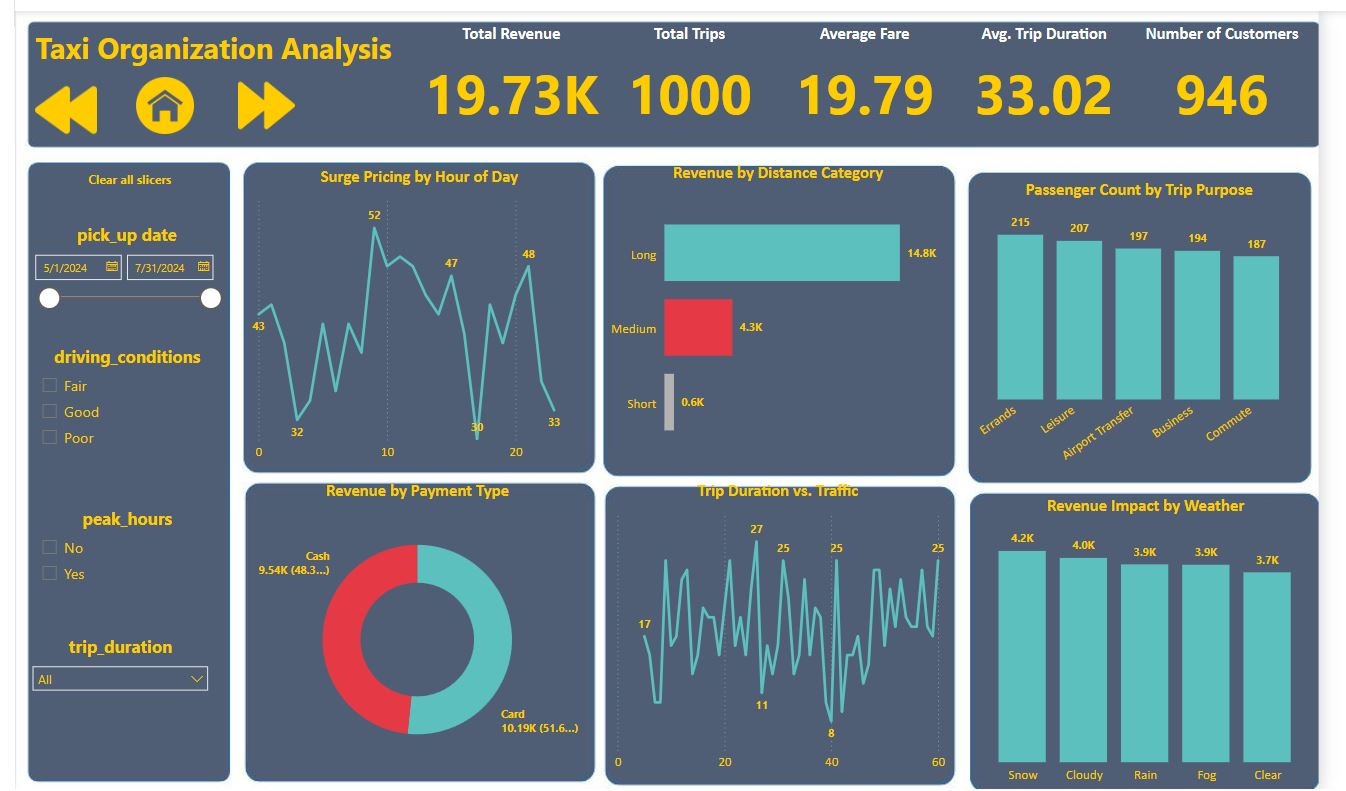

The dashboard page shown, as its layout file describes it:
{"tool":"powerbi","page":{"name":"Page 2","canvas":[1500,900],"ordinal":2},"visuals":[{"type":"card","title":"Total Revenue","fields":{"Values":["Measures Table.Total Revenue"]},"box":[449.4,29.3,205.1,128.9],"z":0},{"type":"card","title":"Total Trips","fields":{"Values":["Measures Table.Total Trips"]},"box":[664.3,29.3,171.9,128.9],"z":1000},{"type":"card","title":"Average Fare","fields":{"Values":["Measures Table.Tip Percentage Overall"]},"box":[847.9,29.3,193.4,128.9],"z":2000},{"type":"card","title":"Number of Customers","fields":{"Values":["Measures Table.Unique Customers"]},"box":[1244.5,29.3,193.4,128.9],"z":3000},{"type":"card","title":"Avg. Trip Duration","fields":{"Values":["Measures Table.Average Trip Duration"]},"box":[1060.9,29.3,166.1,128.9],"z":4000},{"type":"textbox","box":[17.6,29.3,429.8,54.7],"z":5000},{"type":"barChart","title":"Revenue by Distance Category","fields":{"Category":["taxi_organization_dataset.distance_category"],"Y":["Measures Table.Total Revenue"]},"box":[654.5,183.7,386.8,339.9],"z":6000},{"type":"slicer","title":"pick_up date","fields":{"Values":["taxi_organization_dataset.pickup_datetime"]},"box":[9.7,251.6,229,116.1],"z":7000},{"type":"actionButton","box":[17.6,183.7,220.8,37.1],"z":8000},{"type":"slicer","title":"driving_conditions","fields":{"Values":["taxi_organization_dataset.driving-conditions"]},"box":[17.6,386.8,214.9,136.8],"z":9000},{"type":"slicer","title":"peak_hours","fields":{"Values":["taxi_organization_dataset.peak_hours"]},"box":[17.6,566.6,214.9,95.7],"z":10000},{"type":"slicer","title":"trip_duration","fields":{"Values":["taxi_organization_dataset.trip_duration (min)"]},"box":[9.8,709.2,214.9,97.7],"z":11000},{"type":"columnChart","title":"Revenue Impact by Weather","fields":{"Y":["Measures Table.Total Revenue"],"Category":["taxi_organization_dataset.weather"]},"box":[1060.9,552.9,390.7,330.2],"z":12000},{"type":"columnChart","title":"Passenger Count by Trip Purpose","fields":{"Y":["CountNonNull(taxi_organization_dataset.passenger_count)"],"Category":["taxi_organization_dataset.trip_purpose"]},"box":[1060.9,203.2,377.1,334.1],"z":13000},{"type":"lineChart","title":"Trip Duration vs. Traffic ","fields":{"Category":["taxi_organization_dataset.trip_duration (min)"],"Y":["CountNonNull(taxi_organization_dataset.traffic)"]},"box":[654.5,537.3,386.8,332.1],"z":14000},{"type":"donutChart","title":"Revenue by Payment Type","fields":{"Category":["taxi_organization_dataset.payment_type"],"Y":["Measures Table.Total Revenue"]},"box":[255.9,537.3,382.9,332.1],"z":15000},{"type":"lineChart","title":"Surge Pricing by Hour of Day","fields":{"Category":["taxi_organization_dataset.hour_of_day"],"Y":["CountNonNull(taxi_organization_dataset.surge_pricing)"]},"box":[255.9,187.6,386.8,336],"z":16000},{"type":"image","box":[117.2,84,99.6,74.2],"z":17000},{"type":"image","box":[17.6,84,78.1,84],"z":18000},{"type":"image","box":[234.4,84,91.8,74.2],"z":19000}]}

Visuals, with their boxes in screenshot pixels (x1, y1, x2, y2), scaled from the page's 1500x900 canvas onto the 1346x791 screenshot:
"Total Revenue" card: {"left": 403, "top": 26, "right": 587, "bottom": 139}
"Total Trips" card: {"left": 596, "top": 26, "right": 750, "bottom": 139}
"Average Fare" card: {"left": 761, "top": 26, "right": 934, "bottom": 139}
"Number of Customers" card: {"left": 1117, "top": 26, "right": 1290, "bottom": 139}
"Avg. Trip Duration" card: {"left": 952, "top": 26, "right": 1101, "bottom": 139}
textbox: {"left": 16, "top": 26, "right": 401, "bottom": 74}
"Revenue by Distance Category" barChart: {"left": 587, "top": 161, "right": 934, "bottom": 460}
"pick_up date" slicer: {"left": 9, "top": 221, "right": 214, "bottom": 323}
actionButton: {"left": 16, "top": 161, "right": 214, "bottom": 194}
"driving_conditions" slicer: {"left": 16, "top": 340, "right": 209, "bottom": 460}
"peak_hours" slicer: {"left": 16, "top": 498, "right": 209, "bottom": 582}
"trip_duration" slicer: {"left": 9, "top": 623, "right": 202, "bottom": 709}
"Revenue Impact by Weather" columnChart: {"left": 952, "top": 486, "right": 1303, "bottom": 776}
"Passenger Count by Trip Purpose" columnChart: {"left": 952, "top": 179, "right": 1290, "bottom": 472}
"Trip Duration vs. Traffic " lineChart: {"left": 587, "top": 472, "right": 934, "bottom": 764}
"Revenue by Payment Type" donutChart: {"left": 230, "top": 472, "right": 573, "bottom": 764}
"Surge Pricing by Hour of Day" lineChart: {"left": 230, "top": 165, "right": 577, "bottom": 460}
image: {"left": 105, "top": 74, "right": 195, "bottom": 139}
image: {"left": 16, "top": 74, "right": 86, "bottom": 148}
image: {"left": 210, "top": 74, "right": 293, "bottom": 139}
